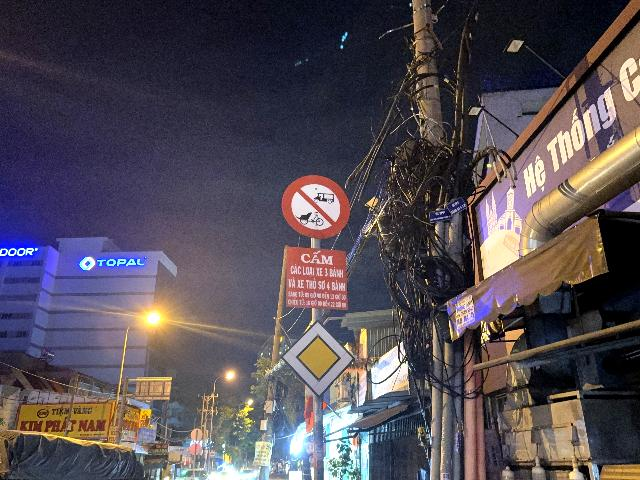bat-dau-duong-uu-tien: (280, 320, 356, 398)
cam-xe-3-banh-xe-tho-so-4-banh: (282, 175, 350, 238)
